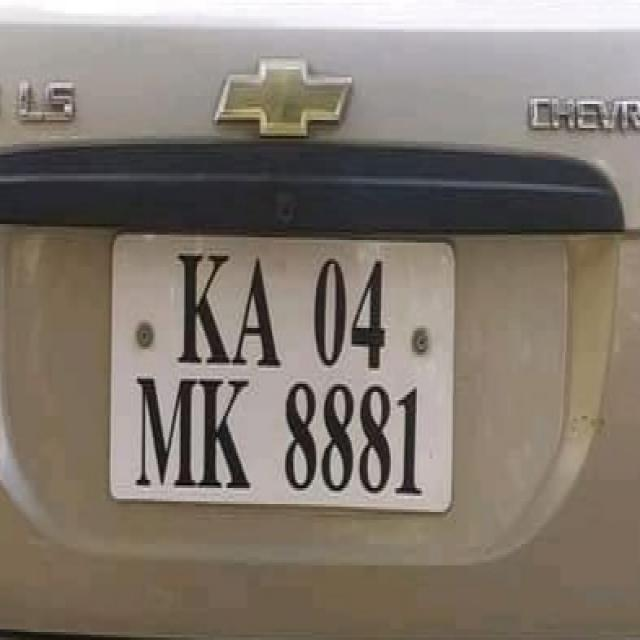0: (312, 252, 348, 371)
1: (396, 375, 430, 507)
4: (349, 255, 392, 378)
8: (358, 381, 396, 502), (284, 376, 319, 494), (321, 379, 356, 497)
A: (230, 244, 282, 378)
K: (175, 246, 233, 372), (200, 374, 256, 496)
M: (134, 367, 200, 492)
